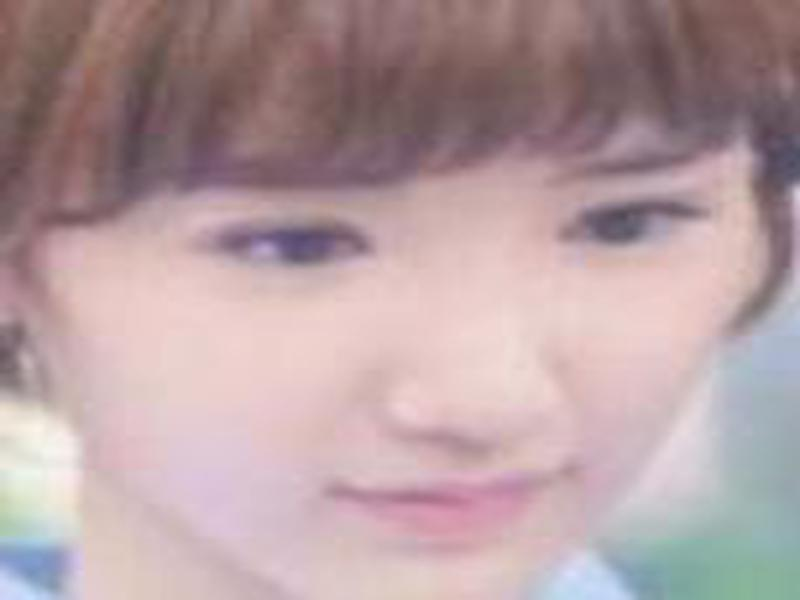without_mask: (40, 127, 770, 600)
